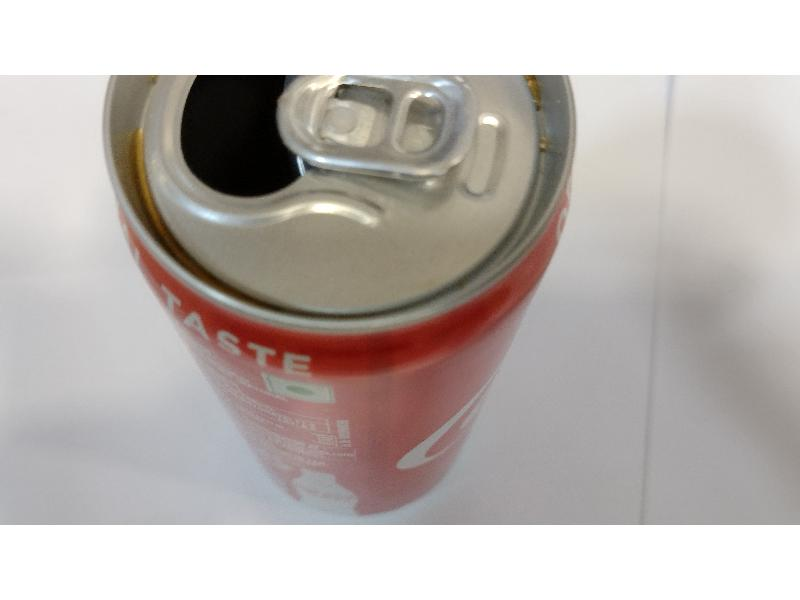can: (95, 73, 583, 488)
